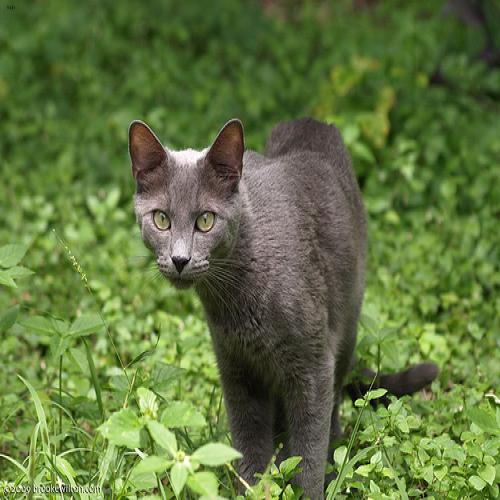rblue: (116, 101, 258, 303)
